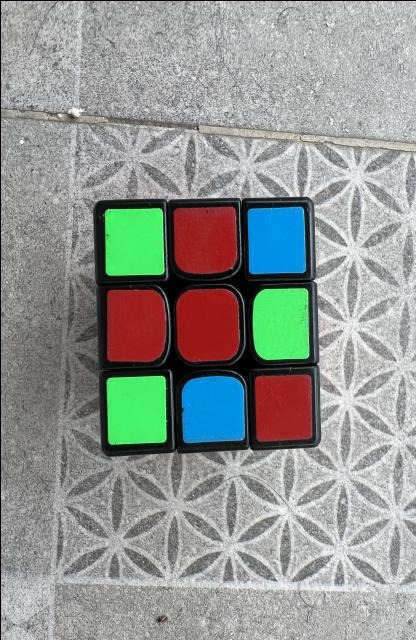Blue: (181, 375, 244, 442), (247, 206, 304, 274)
Green: (105, 375, 166, 444), (251, 288, 309, 359), (104, 208, 164, 275)
Red: (176, 288, 238, 361), (106, 289, 166, 361), (172, 206, 236, 272), (254, 374, 311, 441)
